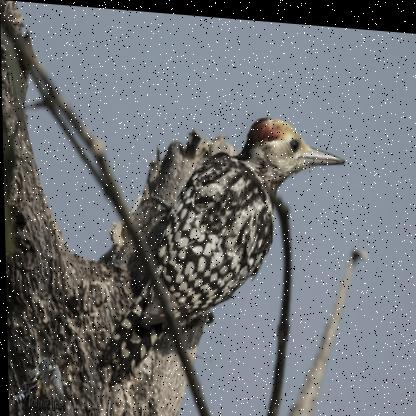Burung: (92, 102, 350, 401)
